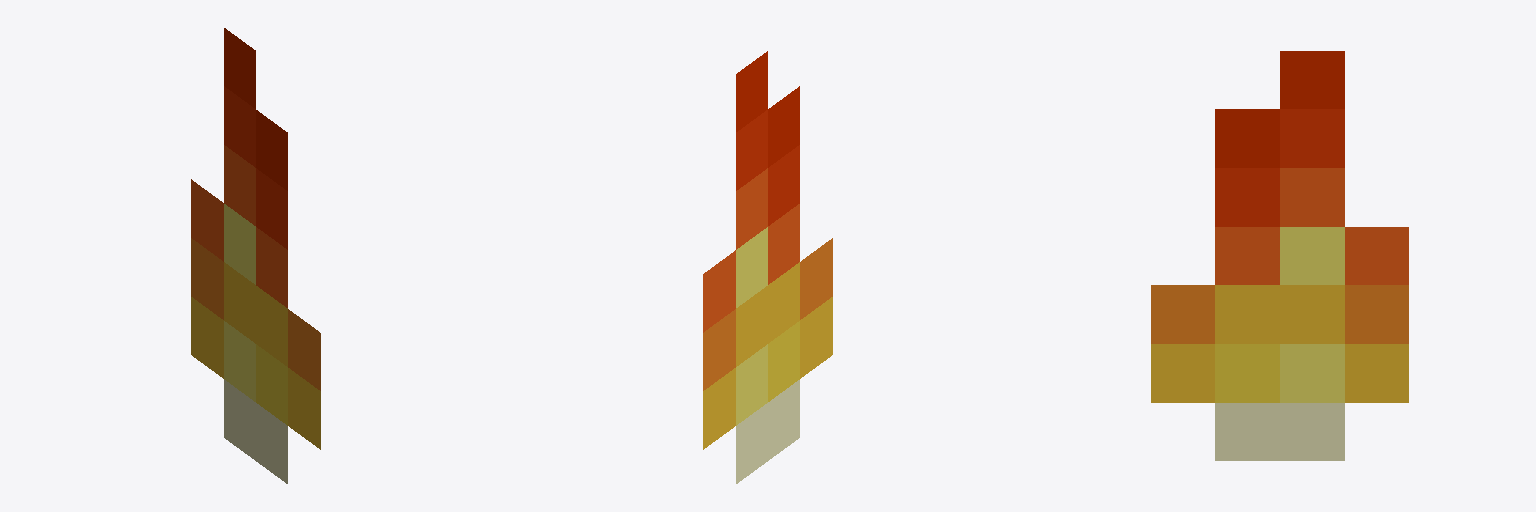
3 renders of one model, left to right at view 1: azimuth 30°, elevation 25°; view 2: azimuth 150°, elevation 25°; view 3: azimuth 270°, elevation 25°, orthographic.
Parts seen in each view (by area): view 1: Plane.003_Plane.001; view 2: Plane.003_Plane.001; view 3: Plane.003_Plane.001.
Part boxes in pixels (bbox=[...]): Plane.003_Plane.001: bbox=[191, 28, 320, 483]; Plane.003_Plane.001: bbox=[703, 51, 832, 483]; Plane.003_Plane.001: bbox=[1151, 51, 1408, 460].
Bounding box in the file's own units: 0 × 0.1806 × 0.1032.
Materials: 1 (1 with a texture image).